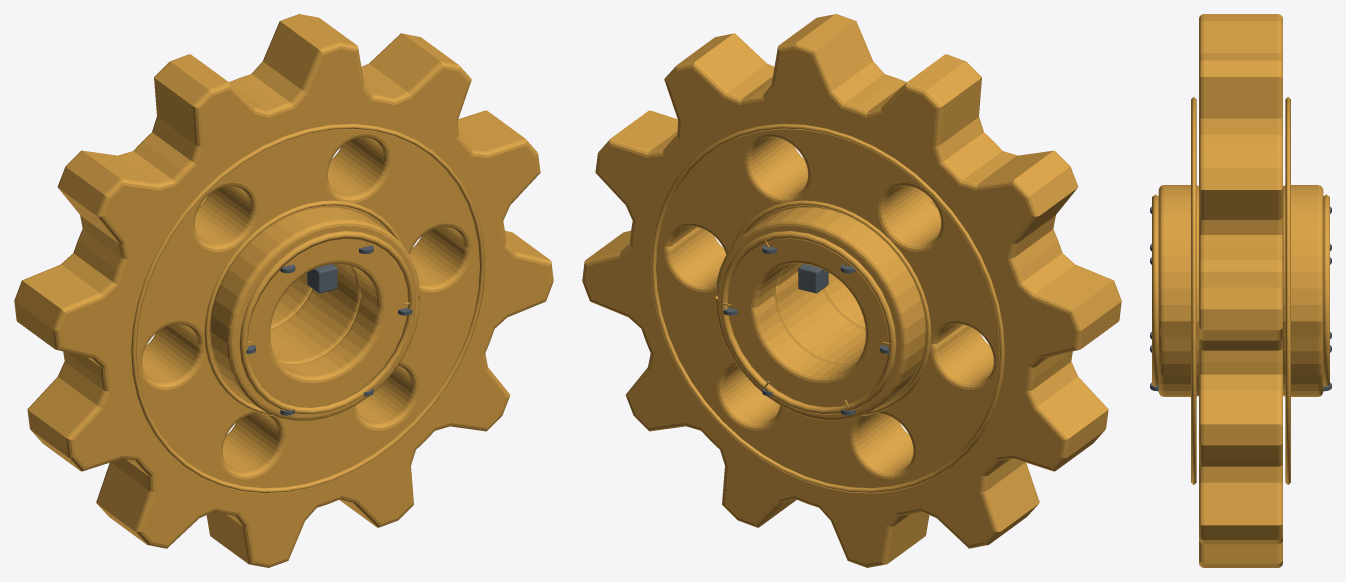
The model's file is workshop-cog.glb.
3 views of the same model, side by side, from view 1: azimuth 30°, elevation 25°; view 2: azimuth 150°, elevation 25°; view 3: azimuth 270°, elevation 25° (orthographic). The views are drawn at different scales.
Parts seen in each view (by area): view 1: brass, steelInset; view 2: brass, steelInset; view 3: brass, steelInset.
Boxes of the visible parts, left/top/right/bottom form: brass: left=14, top=14, right=553, bottom=567; steelInset: left=246, top=245, right=412, bottom=415; brass: left=582, top=14, right=1121, bottom=567; steelInset: left=723, top=245, right=889, bottom=415; brass: left=1152, top=14, right=1329, bottom=567; steelInset: left=1150, top=206, right=1331, bottom=391.
Size of the model in its own units: 0.2806 by 0.2724 by 0.0906.
